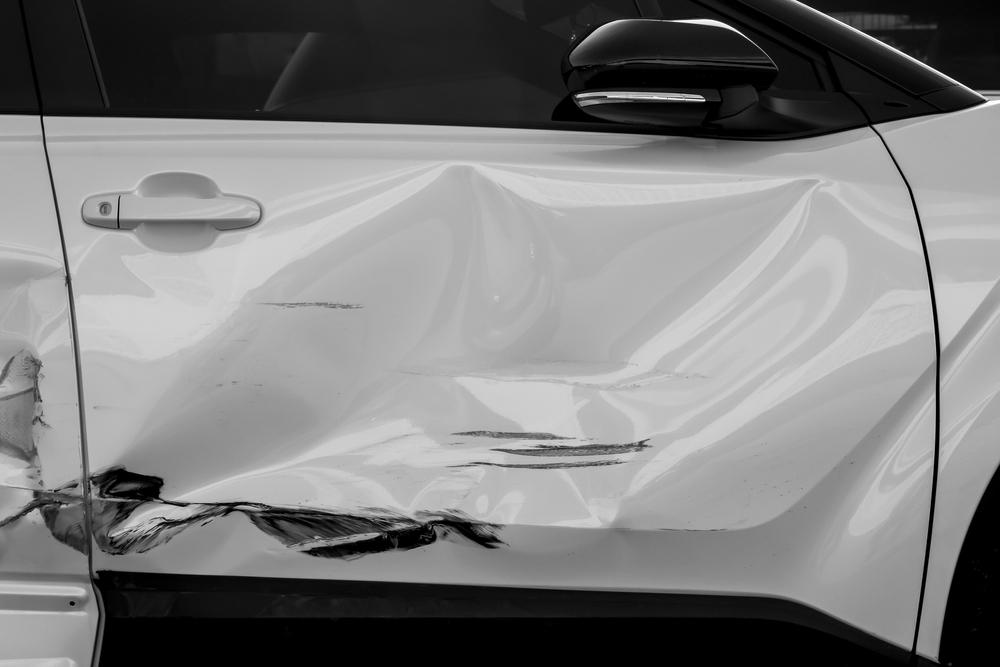dent: (78, 167, 936, 558), (0, 256, 64, 518)
scratch: (88, 465, 513, 562), (38, 474, 87, 549)
